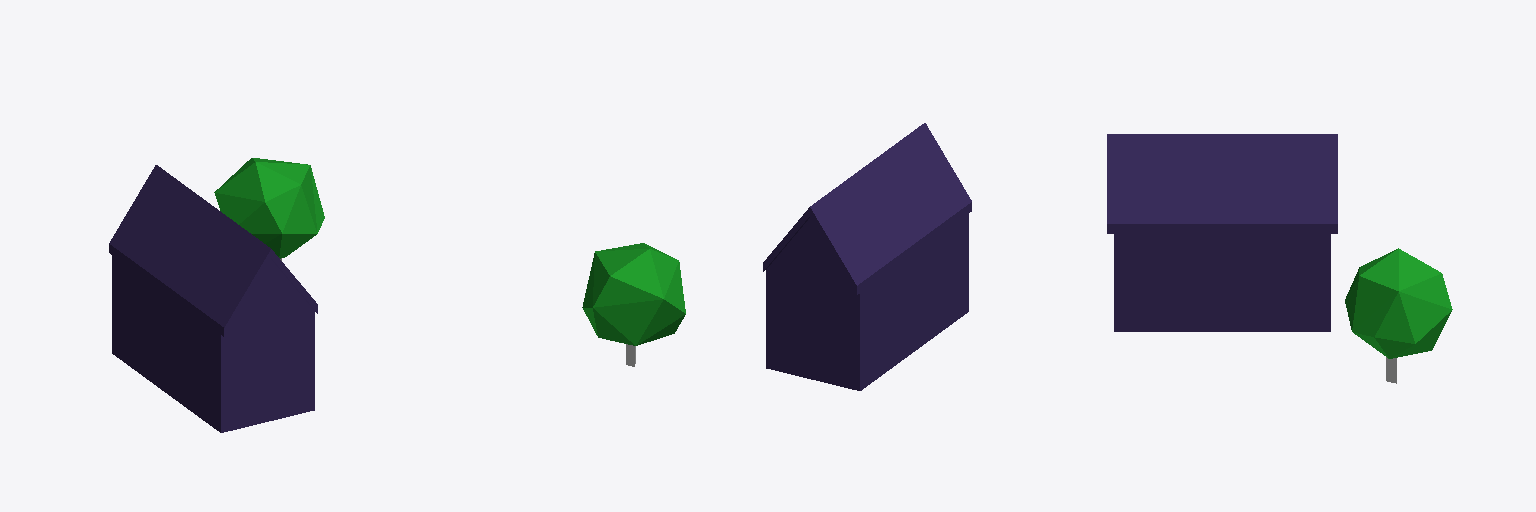
File: house_lopo.obj
The picture shows the model from 3 angles: view 1: azimuth 30°, elevation 25°; view 2: azimuth 150°, elevation 25°; view 3: azimuth 270°, elevation 25°; orthographic projection.
Visible parts, largest first — view 1: House_Cube.001, t2_bush_Icosphere.003; view 2: House_Cube.001, t2_bush_Icosphere.003; view 3: House_Cube.001, t2_bush_Icosphere.003.
Part boxes in pixels (x1,y1,x2,y2): House_Cube.001: (109,165,317,432); t2_bush_Icosphere.003: (214,158,324,258); House_Cube.001: (763,123,971,390); t2_bush_Icosphere.003: (582,243,685,345); House_Cube.001: (1107,134,1337,331); t2_bush_Icosphere.003: (1345,248,1452,358).
Bounding box in the file's own units: 0.5015 × 0.3568 × 0.6354.